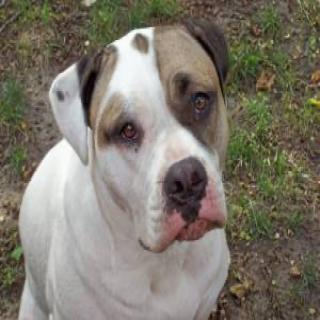dog: (48, 17, 238, 252)
